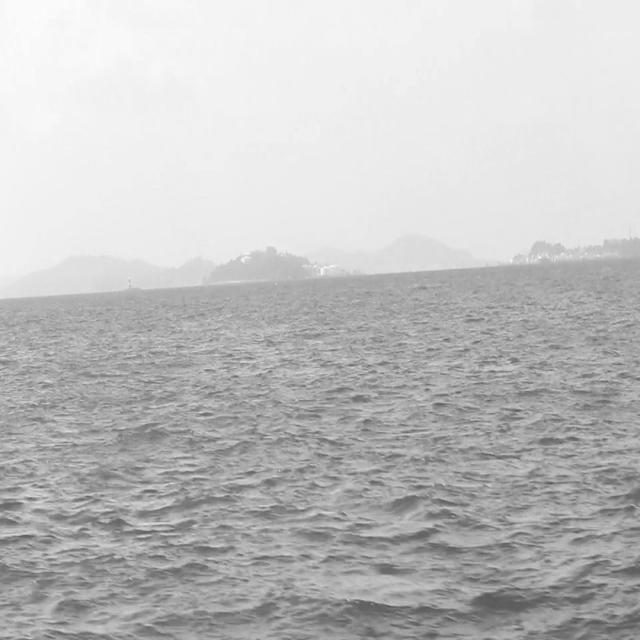ship: (119, 271, 140, 296)
